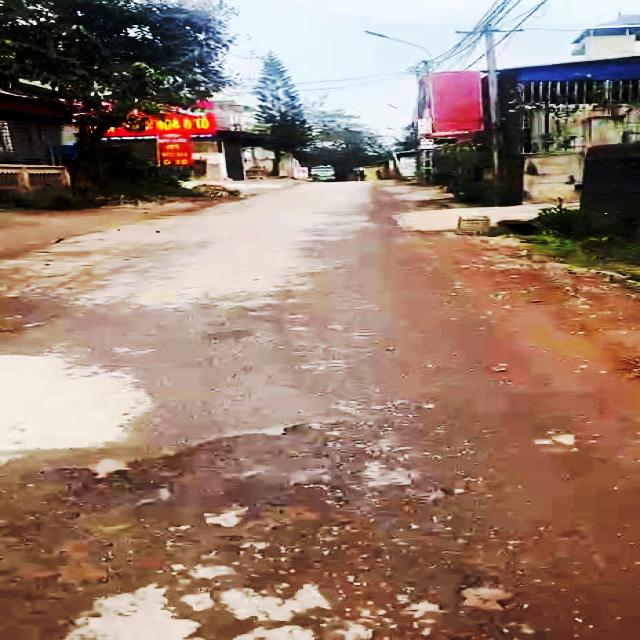pothole: (454, 580, 520, 616), (352, 458, 422, 489), (194, 502, 250, 532), (85, 455, 134, 480)
